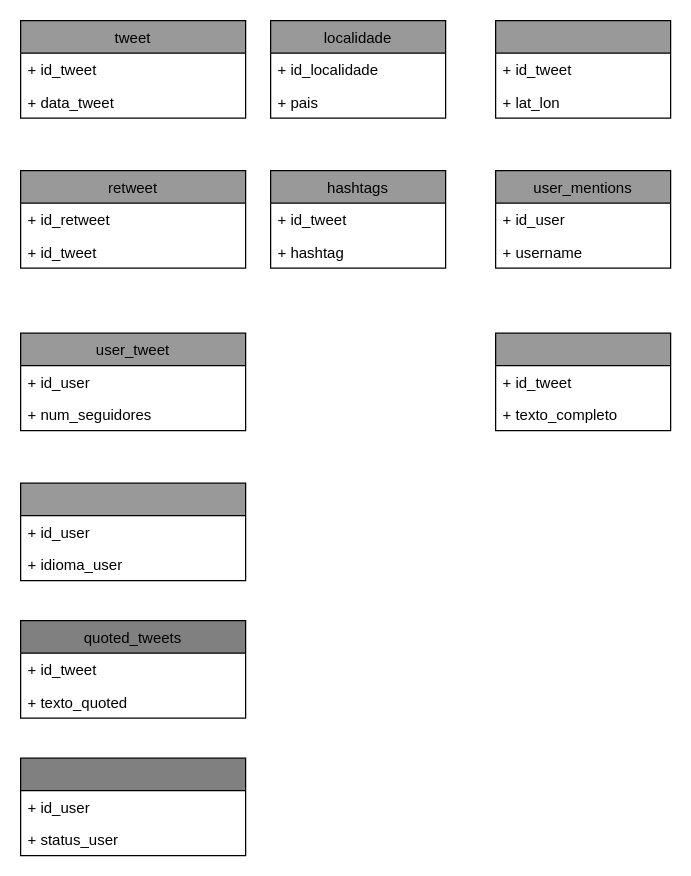
The diagram is 691 pixels wide and 876 high, and some of its shapes have lost their labels. The box of each missing label's shape, as (x1, y1, x2, y2) in pixels:
coordenadas: (494, 19, 671, 118)
extended_tweets: (494, 332, 671, 431)
user_quoted: (19, 757, 246, 856)
user_retweet: (19, 482, 246, 581)
